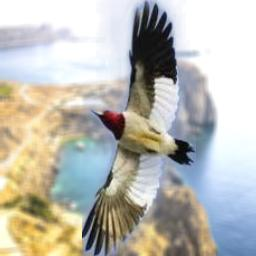Woodpecker: (82, 0, 196, 256)
